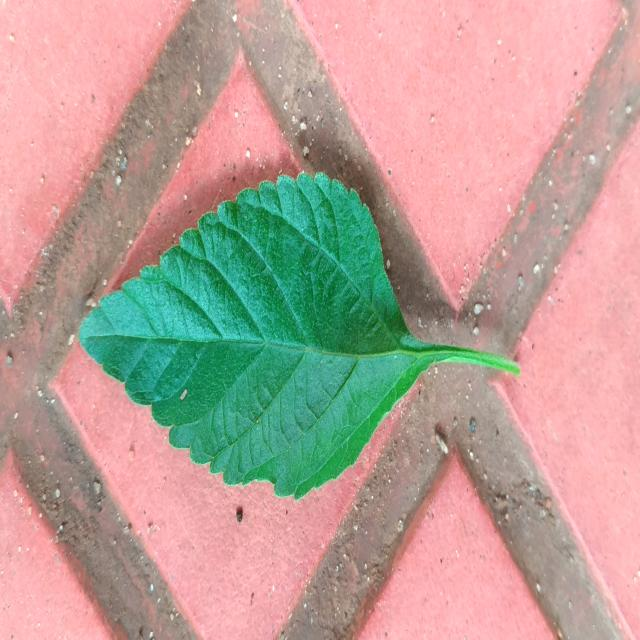Lantana: (80, 173, 506, 498)
